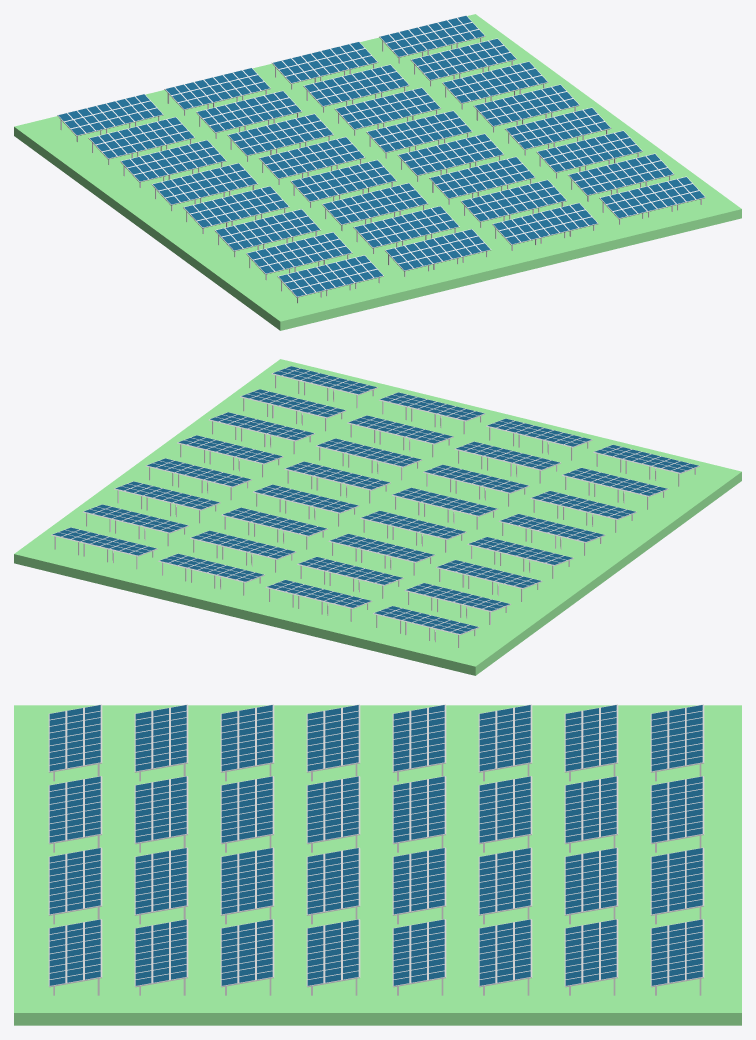
Rendered from solar_farm.fbx.
The picture shows the model from 3 angles, top to bottom: view 1: azimuth 30°, elevation 25°; view 2: azimuth 150°, elevation 25°; view 3: azimuth 270°, elevation 25°; orthographic projection. The views are drawn at different scales.
Visible parts, largest first — view 1: Cube, Cube.008; view 2: Cube.008, Cube; view 3: Cube.008, Cube.
Boxes of the visible parts, x1=… form: Cube: x1=57, y1=15, x2=705, y2=303; Cube.008: x1=14, y1=14, x2=741, y2=330; Cube.008: x1=14, y1=359, x2=741, y2=675; Cube: x1=51, y1=366, x2=699, y2=647; Cube.008: x1=14, y1=705, x2=741, y2=1025; Cube: x1=48, y1=704, x2=704, y2=995.
Size of the model in its own units: 26 by 26 by 1.3.
Materials: 2 (2 with a texture image).
